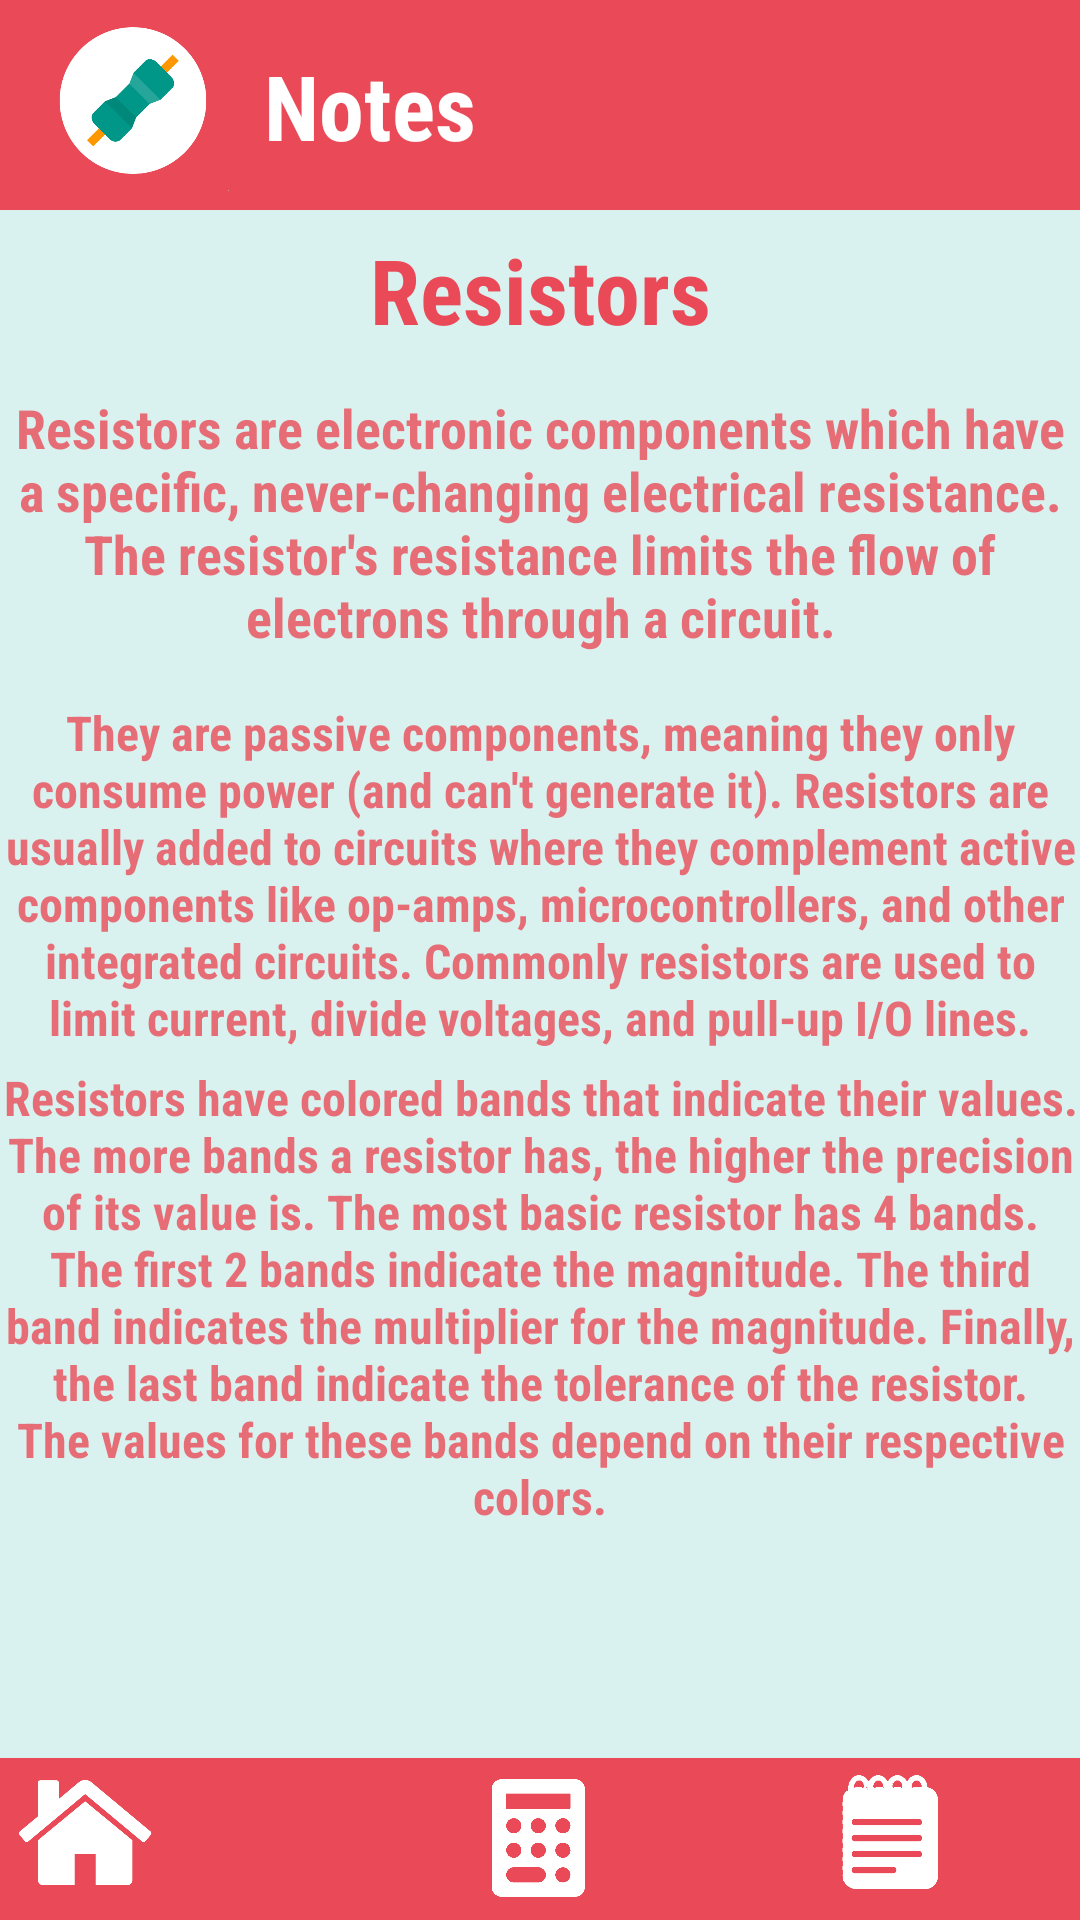

Icon bounding boxes for this 1080 x 1920 phone screenshot, format bbox(x1, y1, x2, y2):
calc: bbox(492, 1779, 585, 1897)
home: bbox(19, 1780, 151, 1885)
notes: bbox(842, 1775, 938, 1889)
